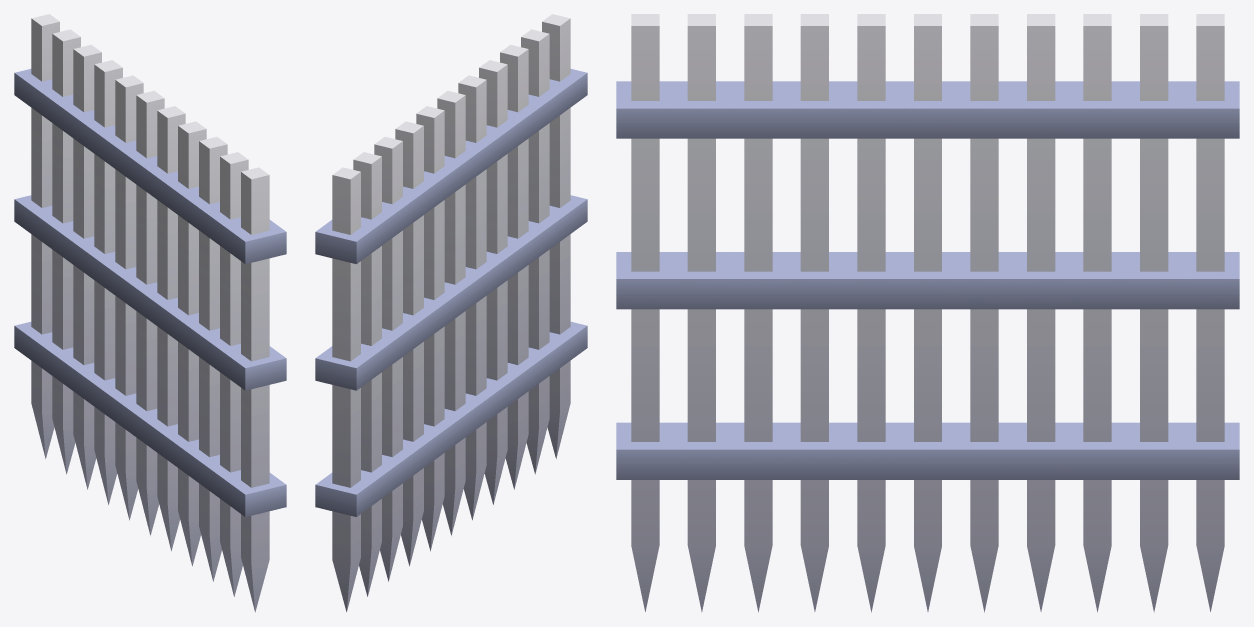
The model's file is metal-gate.glb.
The picture shows the model from 3 angles, left to right: view 1: azimuth 30°, elevation 25°; view 2: azimuth 150°, elevation 25°; view 3: azimuth 270°, elevation 25°; orthographic projection. The views are drawn at different scales.
Parts seen in each view (by area): view 1: metal-gate; view 2: metal-gate; view 3: metal-gate.
Part boxes in pixels (bbox=[...]): metal-gate: bbox=[14, 14, 286, 612]; metal-gate: bbox=[315, 14, 587, 612]; metal-gate: bbox=[616, 14, 1239, 612].
Size of the model in its own units: 0.0714 by 0.7301 by 0.6953.
1 material, 1 textured.
